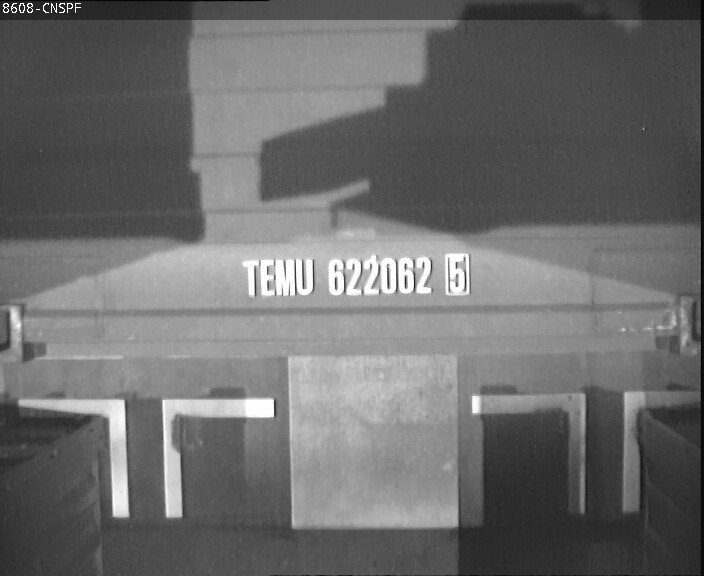groundmarker_1: (21, 397, 272, 518), (474, 390, 703, 514)
